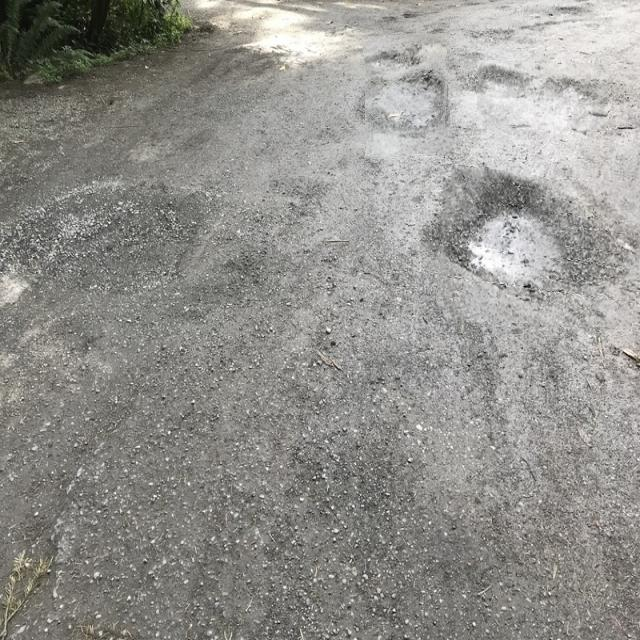Pothole: (438, 170, 640, 327), (365, 35, 451, 158), (477, 61, 609, 131)
